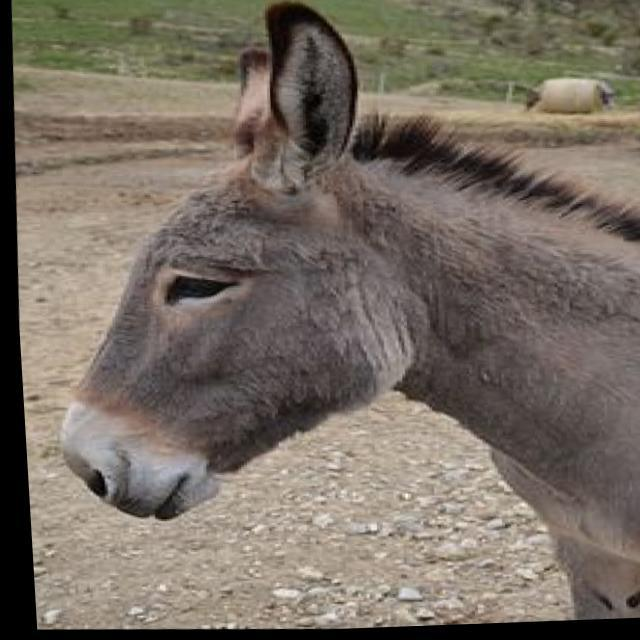Donkey: (24, 0, 640, 639)
